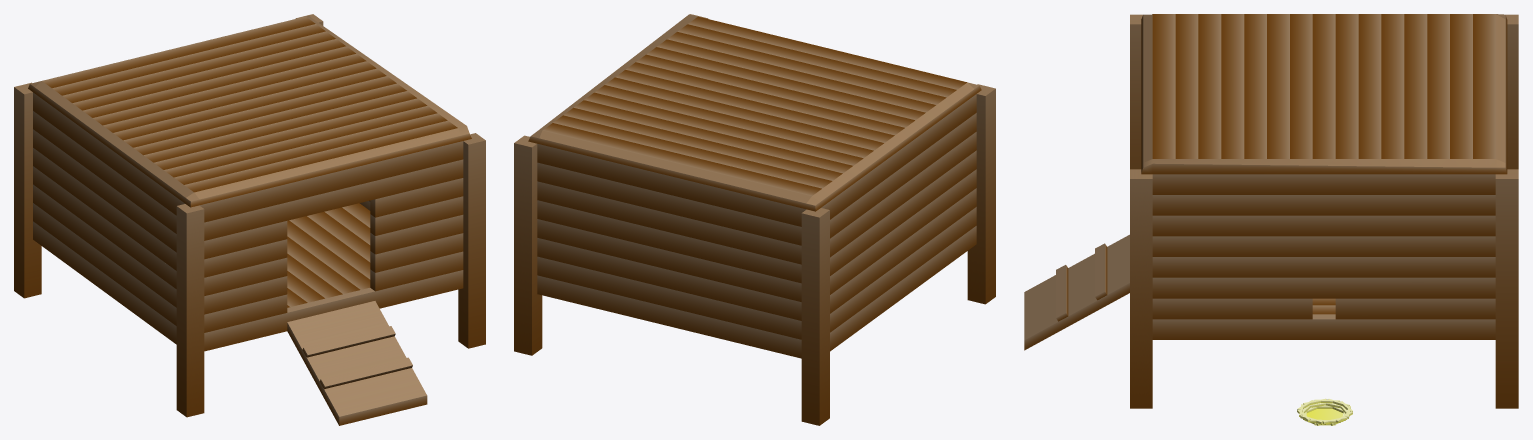
File: Gallinero (1).FBX
3 renders of one model, left to right at view 1: azimuth 30°, elevation 25°; view 2: azimuth 150°, elevation 25°; view 3: azimuth 270°, elevation 25°, orthographic. The views are drawn at different scales.
Parts seen in each view (by area): view 1: Gallinero; view 2: Gallinero; view 3: Gallinero.
Boxes of the visible parts, x1=… form: Gallinero: x1=14, y1=14, x2=485, y2=425; Gallinero: x1=514, y1=14, x2=995, y2=425; Gallinero: x1=1024, y1=14, x2=1518, y2=425.
Size of the model in its own units: 191 by 116 by 216.
Materials: 1 (1 with a texture image).
